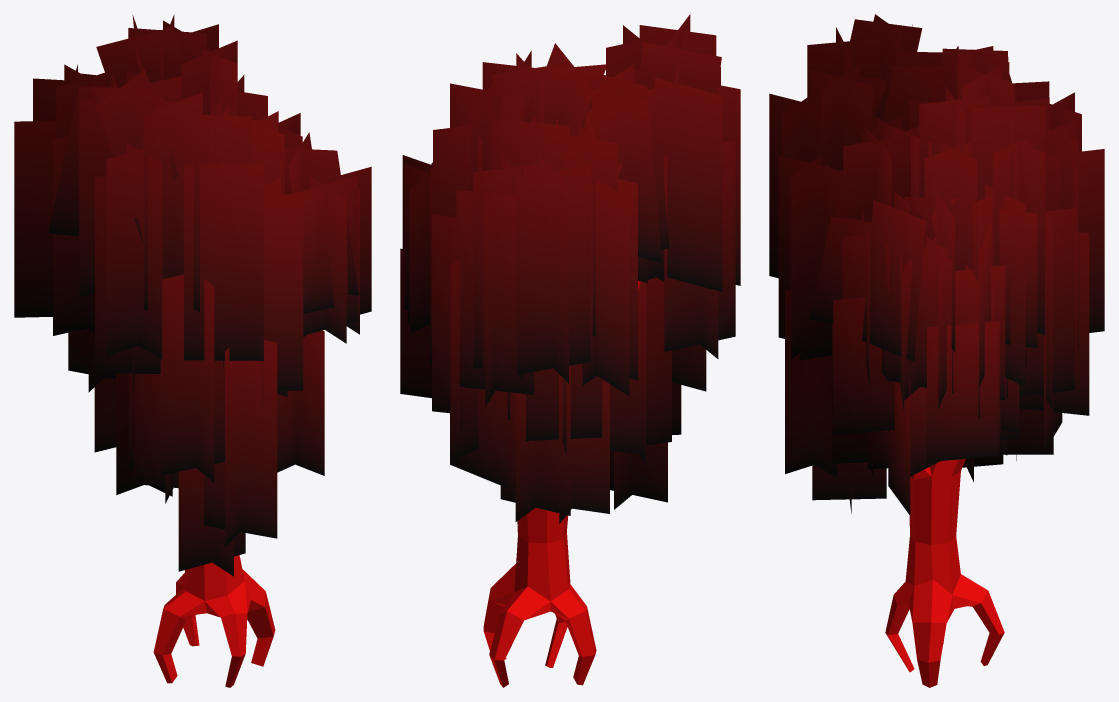
File: SM_Tree_Willow_Medium_01.glb
The picture shows the model from 3 angles, left to right: view 1: azimuth 30°, elevation 25°; view 2: azimuth 150°, elevation 25°; view 3: azimuth 270°, elevation 25°; orthographic projection. The views are drawn at different scales.
Visible parts, largest first — view 1: SM_Tree_Willow_Medium_01; view 2: SM_Tree_Willow_Medium_01; view 3: SM_Tree_Willow_Medium_01.
Boxes of the visible parts, left/top/right/bottom form: SM_Tree_Willow_Medium_01: left=14, top=14, right=371, bottom=687; SM_Tree_Willow_Medium_01: left=400, top=14, right=740, bottom=687; SM_Tree_Willow_Medium_01: left=769, top=14, right=1104, bottom=687.
Bounding box in the file's own units: 3.36 × 6.68 × 3.36.
